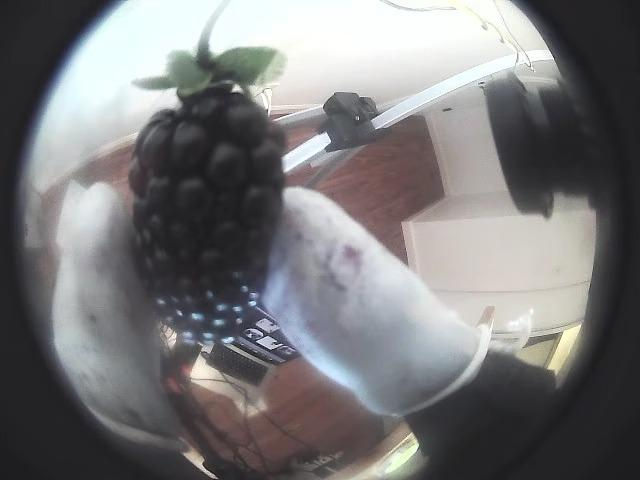berry: (129, 12, 284, 342)
gripper: (261, 187, 491, 415), (52, 183, 179, 449)
lense: (0, 0, 200, 479), (492, 0, 639, 479)
